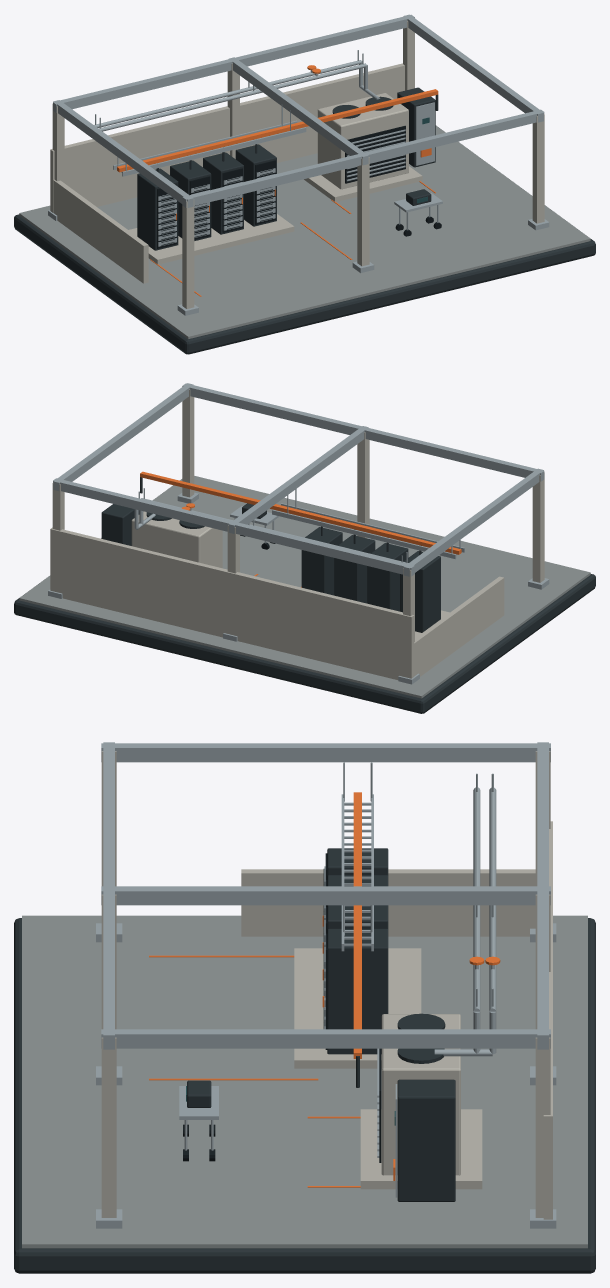
The model's file is project-management.glb.
3 views of the same model, one above another, from view 1: azimuth 30°, elevation 25°; view 2: azimuth 150°, elevation 25°; view 3: azimuth 270°, elevation 25° (orthographic). The views are drawn at different scales.
Visible parts, largest first — view 1: Structure_Slab, Structure_RearWall, Structure_Foundation, Equipment_CoolingSkid_01, Structure_Header_0, Structure_Header_1, Structure_LeftWall, Equipment_Rack_01, Coordination_OverheadDistribution_01, Equipment_Rack_04, Equipment_Rack_03, Structure_EquipmentPlinth_0 (+16 smaller); view 2: Structure_RearWall, Structure_Slab, Structure_Foundation, Structure_Header_1, Structure_Header_0, Structure_LeftWall, Equipment_CoolingSkid_01, Coordination_OverheadDistribution_01, Structure_RoofBeam_0, Structure_RoofBeam_1, Structure_RoofBeam_2, Equipment_Rack_01 (+13 smaller); view 3: Structure_Slab, Structure_Foundation, Structure_LeftWall, Structure_RoofBeam_2, Structure_RoofBeam_1, Structure_RoofBeam_0, Equipment_DistributionBoard_01, Equipment_CoolingSkid_01, Structure_EquipmentPlinth_0, Equipment_Rack_04, Structure_EquipmentPlinth_1, Structure_Header_0 (+12 smaller).
Part boxes in pixels (box(x1,y1,x2,y2)): Structure_Slab: box(19, 125, 590, 338); Structure_RearWall: box(50, 63, 404, 212); Structure_Foundation: box(14, 214, 595, 354); Equipment_CoolingSkid_01: box(317, 93, 408, 189); Structure_Header_0: box(182, 109, 544, 207); Structure_Header_1: box(53, 14, 414, 112); Structure_LeftWall: box(53, 179, 148, 283); Equipment_Rack_01: box(137, 168, 178, 250); Coordination_OverheadDistribution_01: box(113, 104, 306, 176); Equipment_Rack_04: box(235, 144, 276, 226); Equipment_Rack_03: box(203, 152, 243, 234); Structure_EquipmentPlinth_0: box(128, 214, 294, 264); Structure_RearWall: box(50, 527, 414, 679); Structure_Slab: box(19, 476, 590, 698); Structure_Foundation: box(14, 574, 595, 713); Structure_Header_1: box(53, 478, 414, 576); Structure_Header_0: box(182, 383, 544, 481); Structure_LeftWall: box(414, 576, 504, 676); Equipment_CoolingSkid_01: box(131, 511, 222, 568); Coordination_OverheadDistribution_01: box(272, 486, 464, 559); Structure_RoofBeam_0: box(403, 468, 543, 576); Structure_RoofBeam_1: box(228, 426, 368, 533); Structure_RoofBeam_2: box(53, 383, 193, 491); Equipment_Rack_01: box(400, 551, 440, 632); Structure_Slab: box(22, 915, 587, 1248); Structure_Foundation: box(14, 918, 595, 1273); Structure_LeftWall: box(241, 869, 535, 936); Structure_RoofBeam_2: box(101, 1029, 550, 1048); Structure_RoofBeam_1: box(101, 886, 550, 905); Structure_RoofBeam_0: box(101, 743, 550, 762); Equipment_DistributionBoard_01: box(394, 1079, 455, 1201); Equipment_CoolingSkid_01: box(377, 1013, 460, 1175); Structure_EquipmentPlinth_0: box(294, 948, 421, 1068); Equipment_Rack_04: box(322, 928, 388, 1054); Structure_EquipmentPlinth_1: box(360, 1109, 482, 1189); Structure_Header_0: box(103, 742, 114, 1049).
Size of the model in its own units: 15 by 4.57 by 11.
